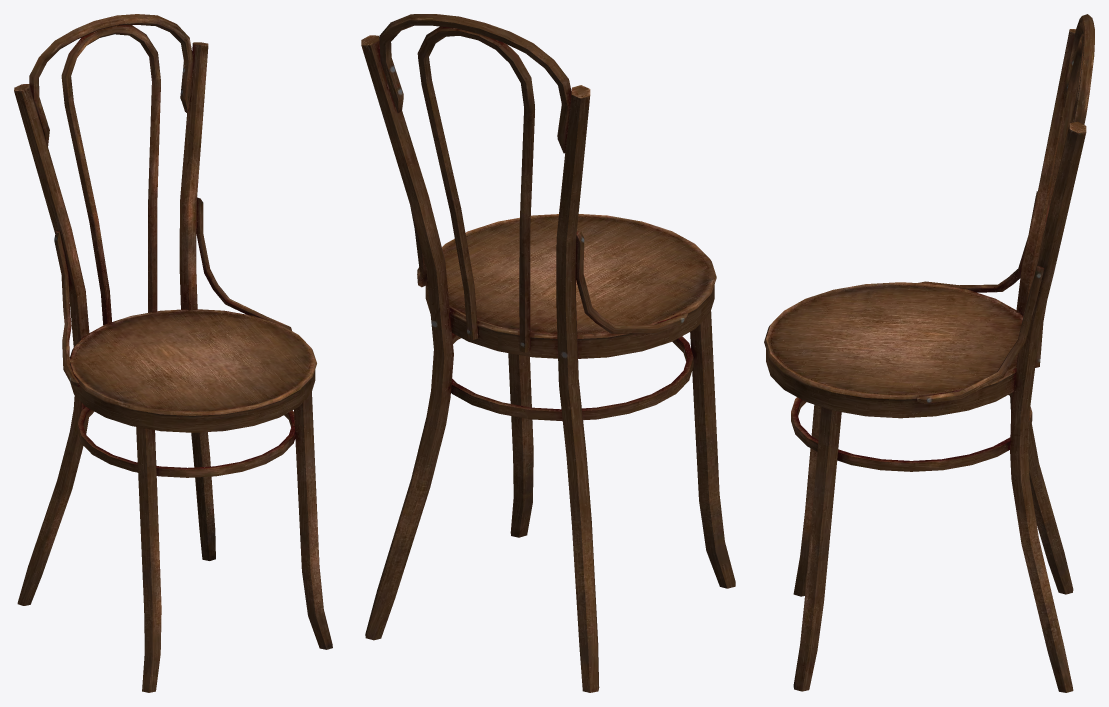
Rendered from chair-transformed.glb.
3 renders of one model, left to right at view 1: azimuth 30°, elevation 25°; view 2: azimuth 150°, elevation 25°; view 3: azimuth 270°, elevation 25°, orthographic. The views are drawn at different scales.
Parts seen in each view (by area): view 1: chair_chair_0; view 2: chair_chair_0; view 3: chair_chair_0.
Boxes of the visible parts, left/top/right/bottom form: chair_chair_0: left=14, top=14, right=332, bottom=692; chair_chair_0: left=361, top=14, right=735, bottom=692; chair_chair_0: left=764, top=14, right=1094, bottom=692.
Bounding box in the file's own units: 0.201 × 0.4841 × 0.2386.
1 material, 1 textured.
